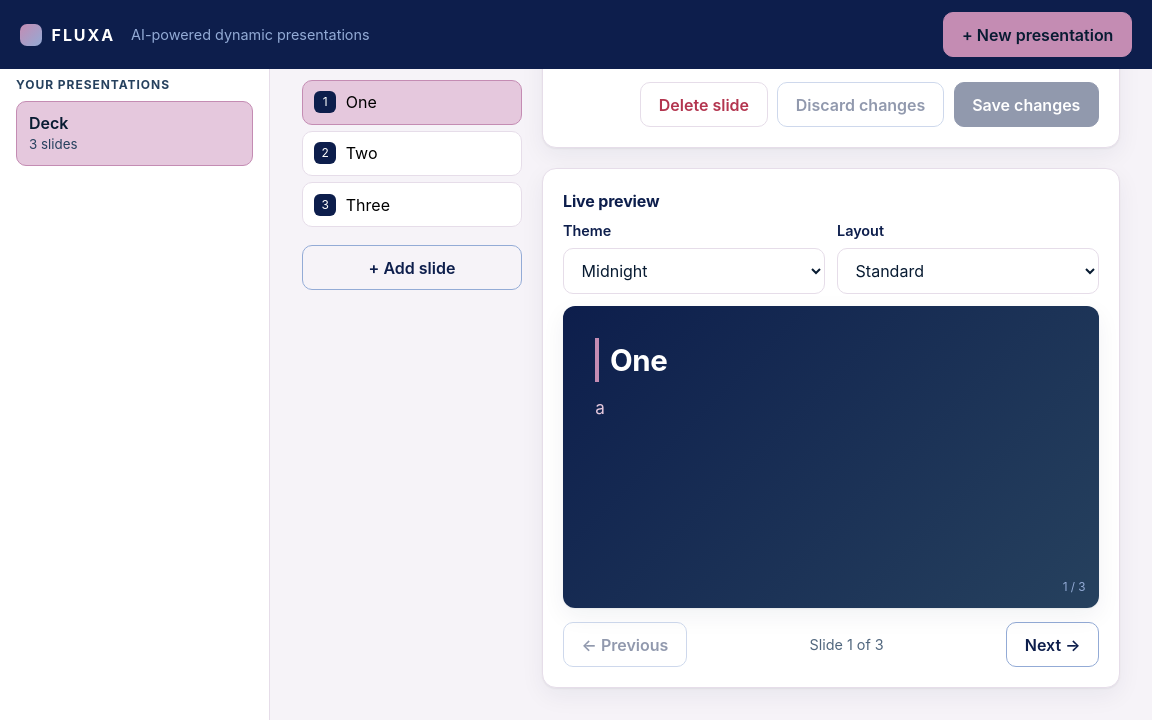
Test: Previous is disabled on the first slide and Next moves forward
(page scrolled)
Expected: the button "← Previous" is disabled, [563,622,687,667]
Click the button "Next →" at (1053, 644), box [1006,622,1099,667]
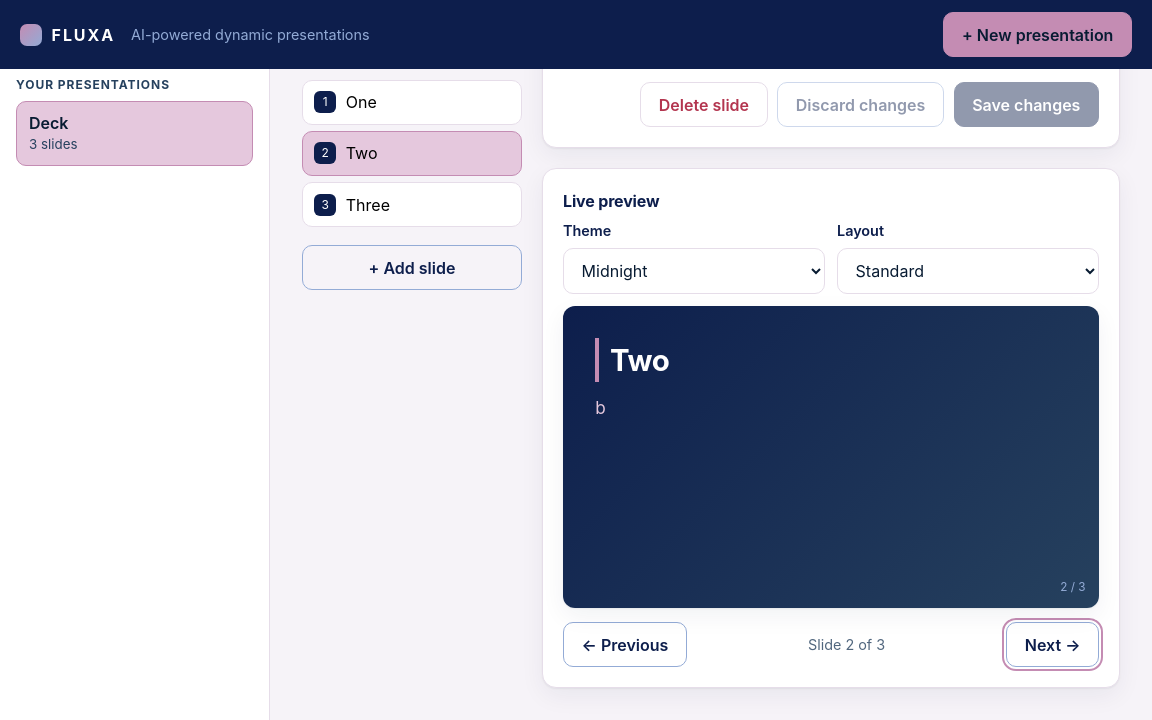
Expected: the text with test id "slide-position" reads "Slide 2 of 3", [808,634,885,655]
Expected: the button "← Previous" is enabled, [563,622,687,667]
